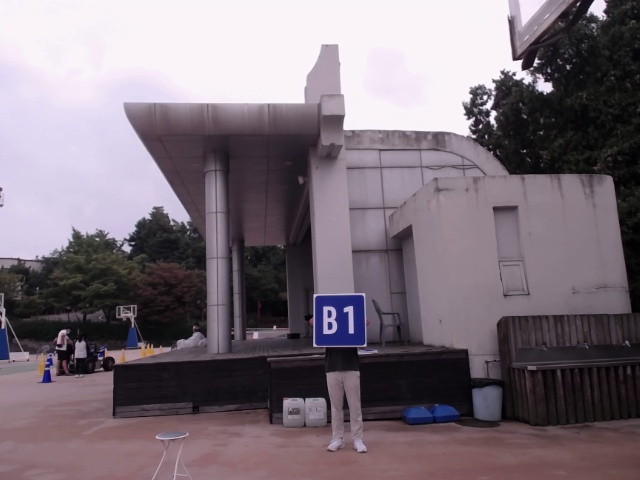delivery_b1: (313, 294, 367, 347)
